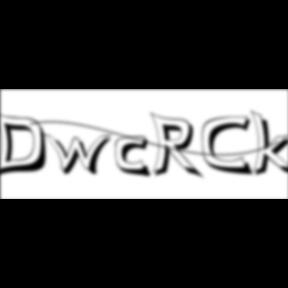C: (201, 115, 256, 178)
D: (0, 110, 54, 180)
R: (150, 112, 207, 182)
c: (116, 136, 156, 180)
w: (41, 132, 119, 178)
